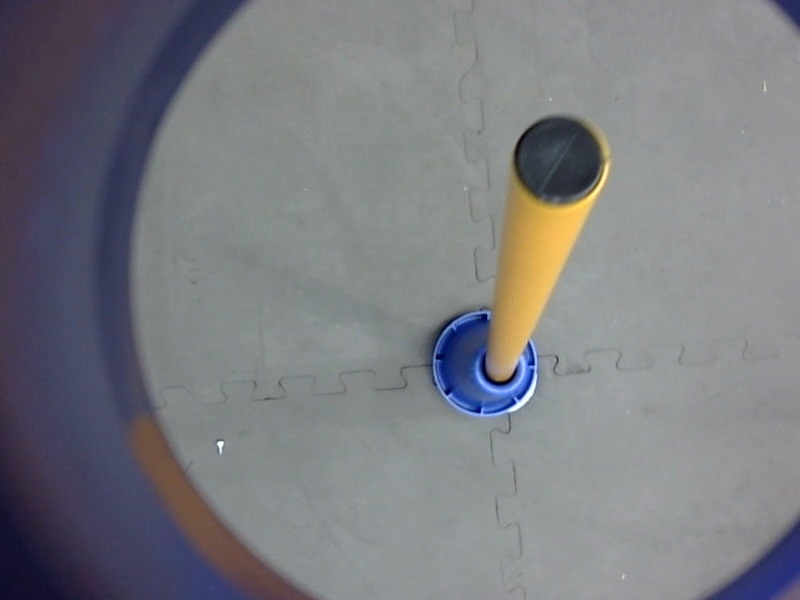tip: (503, 106, 616, 216)
